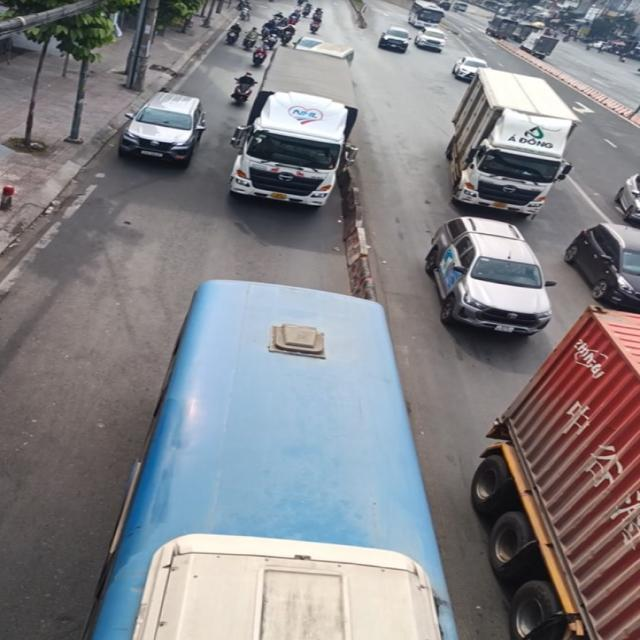bus: (80, 277, 462, 639)
car: (424, 215, 556, 336), (117, 90, 207, 167)
container-truck: (469, 303, 639, 639)
truck: (225, 53, 365, 215), (444, 66, 581, 221)
